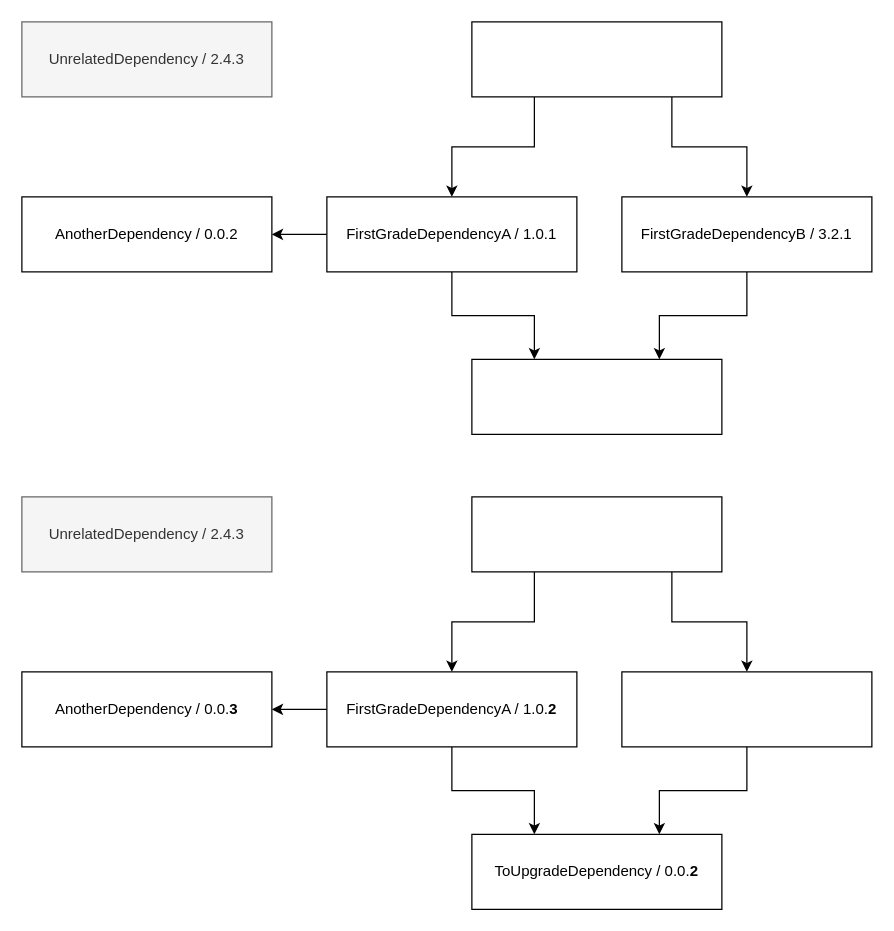
Some shapes in this 894 by 931 pixel diagram are drawn without their labels. Each missing label, with the centre of its shape:
"FirstGradeDependencyB / 3.2. 2" goes at pixel 746 709.
"SecondGradeDependency / 1.0. 2" goes at pixel 596 534.
"SecondGradeDependency / 1.0.0" goes at pixel 596 59.
"ToUpgradeDependency / 0.0.1" goes at pixel 596 396.
